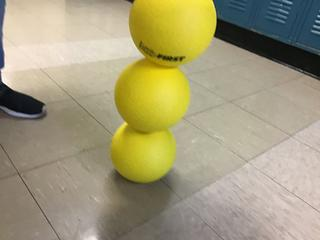power_cell: (129, 1, 220, 67), (116, 56, 192, 128), (109, 120, 182, 186)
